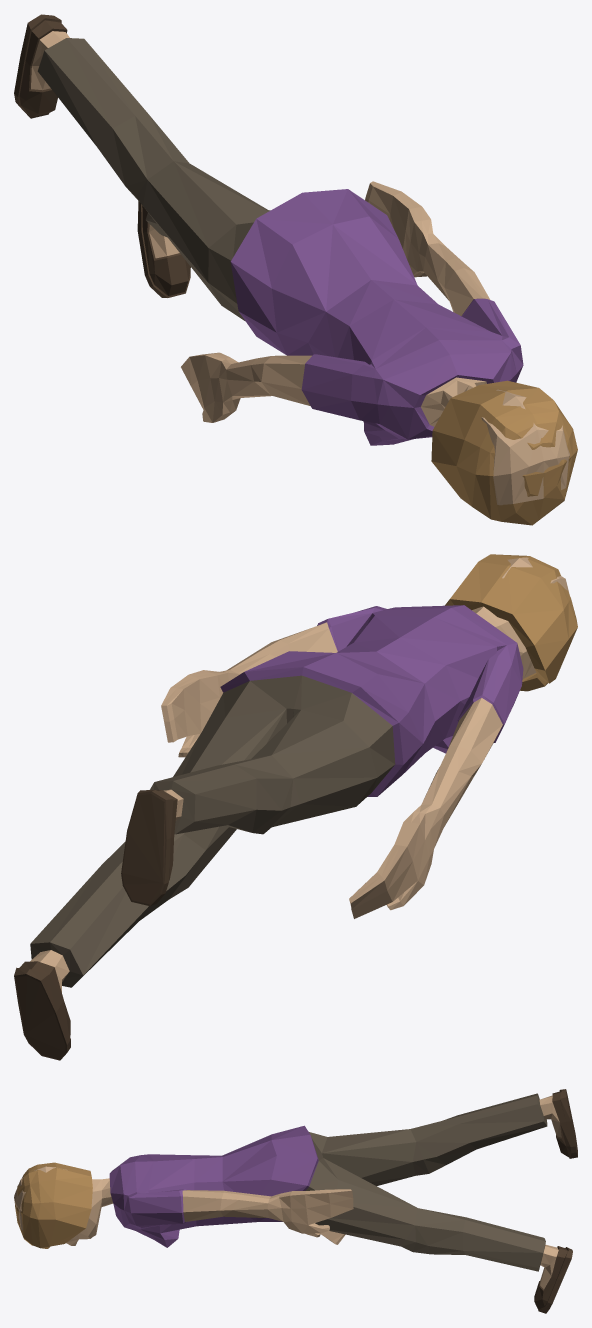
File: woman-walking.obj
The picture shows the model from 3 angles, top to bottom: view 1: azimuth 30°, elevation 25°; view 2: azimuth 150°, elevation 25°; view 3: azimuth 270°, elevation 25°; orthographic projection. The views are drawn at different scales.
Visible parts, largest first — view 1: woman-walking; view 2: woman-walking; view 3: woman-walking.
Boxes of the visible parts, box(x1,y1,x2,y2) form: woman-walking: box(14, 14, 577, 525); woman-walking: box(14, 554, 577, 1060); woman-walking: box(14, 1089, 577, 1313).
Size of the model in its own units: 18.65 by 23.83 by 65.31.
